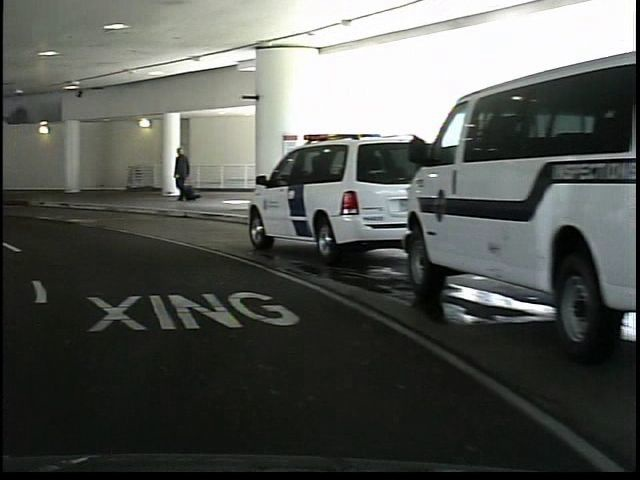person: (166, 146, 191, 205)
